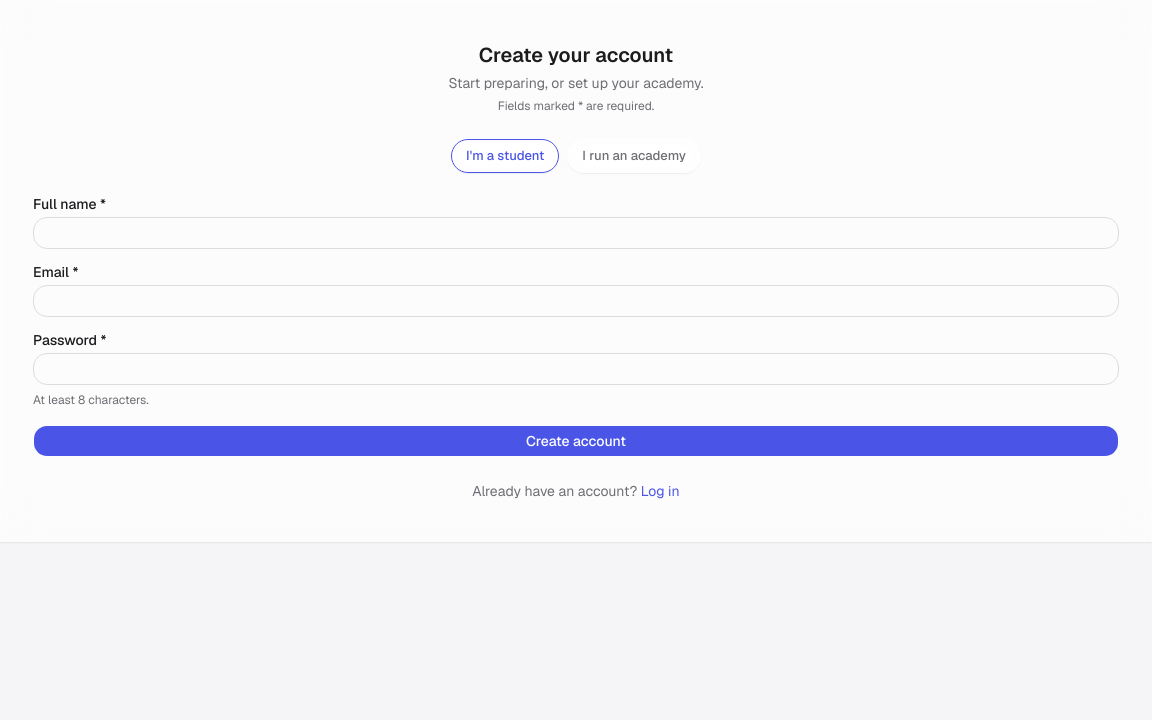
Test: SignupForm: required fields and field-specific errors › rejects an invalid email and a short password, and keeps everything typed
Type "New Cadet" into the field labelled "Full name *" at {"x": 576, "y": 232}, box [33,216,1119,248]
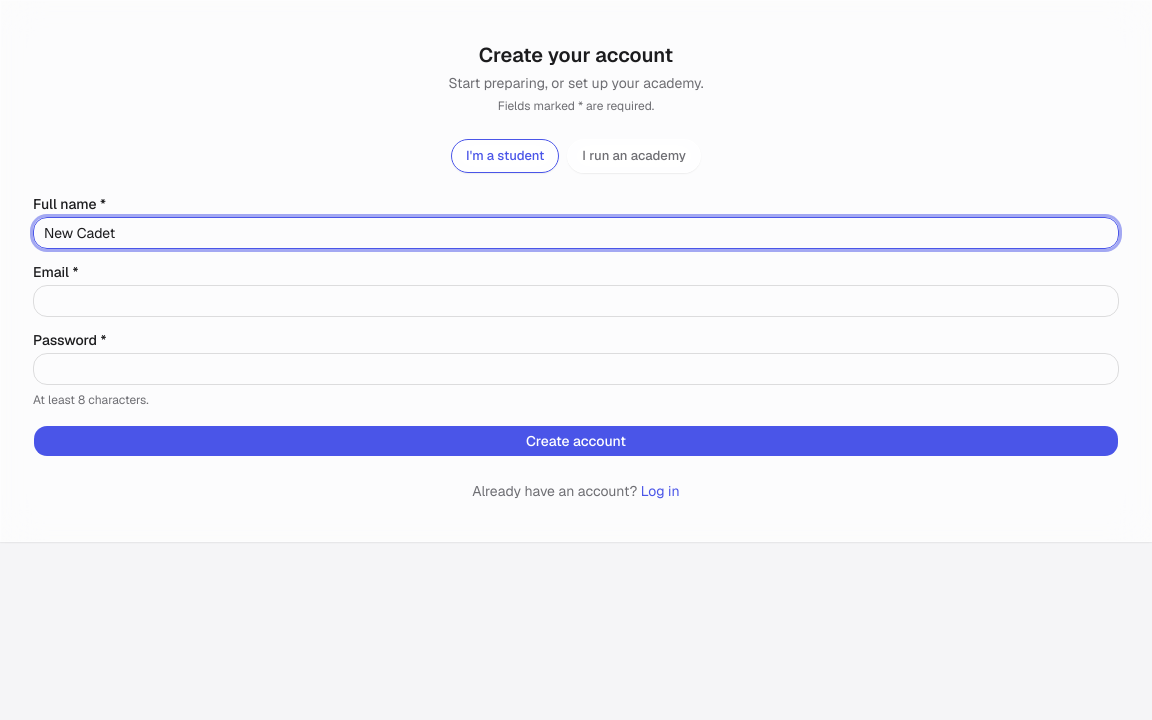
Type "not-an-email" into the field labelled "Email *" at {"x": 576, "y": 300}, box [33,284,1119,316]
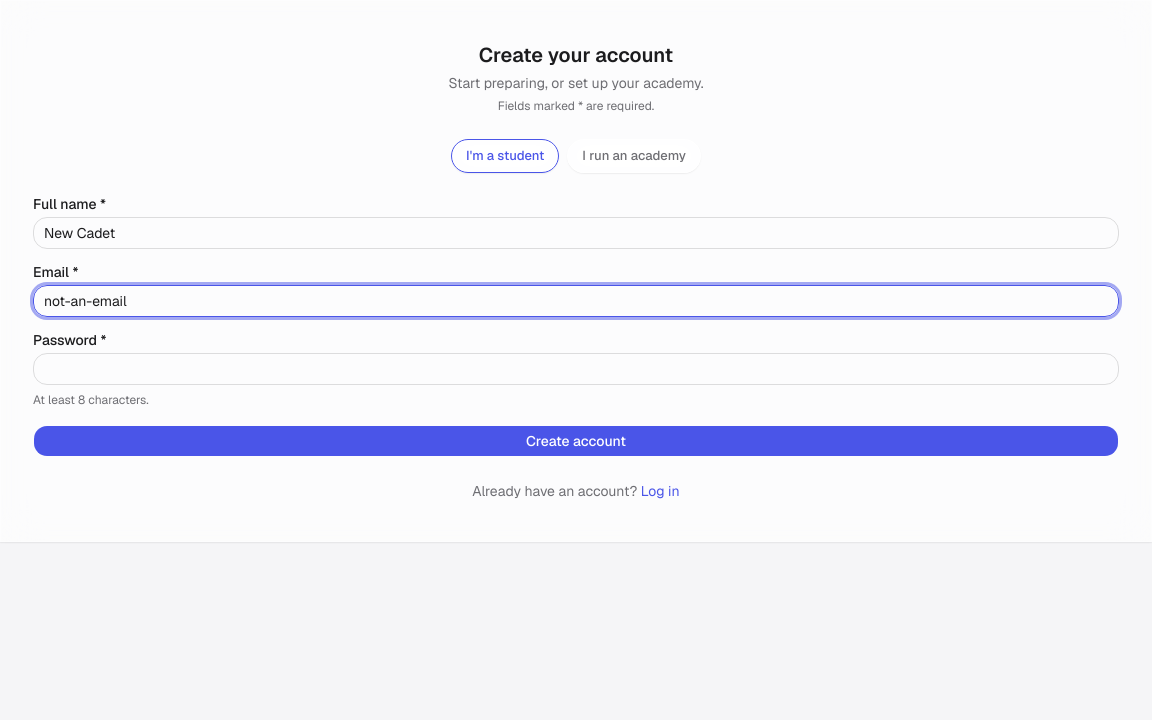
Type "short" into the password field labelled "Password *" at {"x": 576, "y": 368}, box [33,352,1119,384]
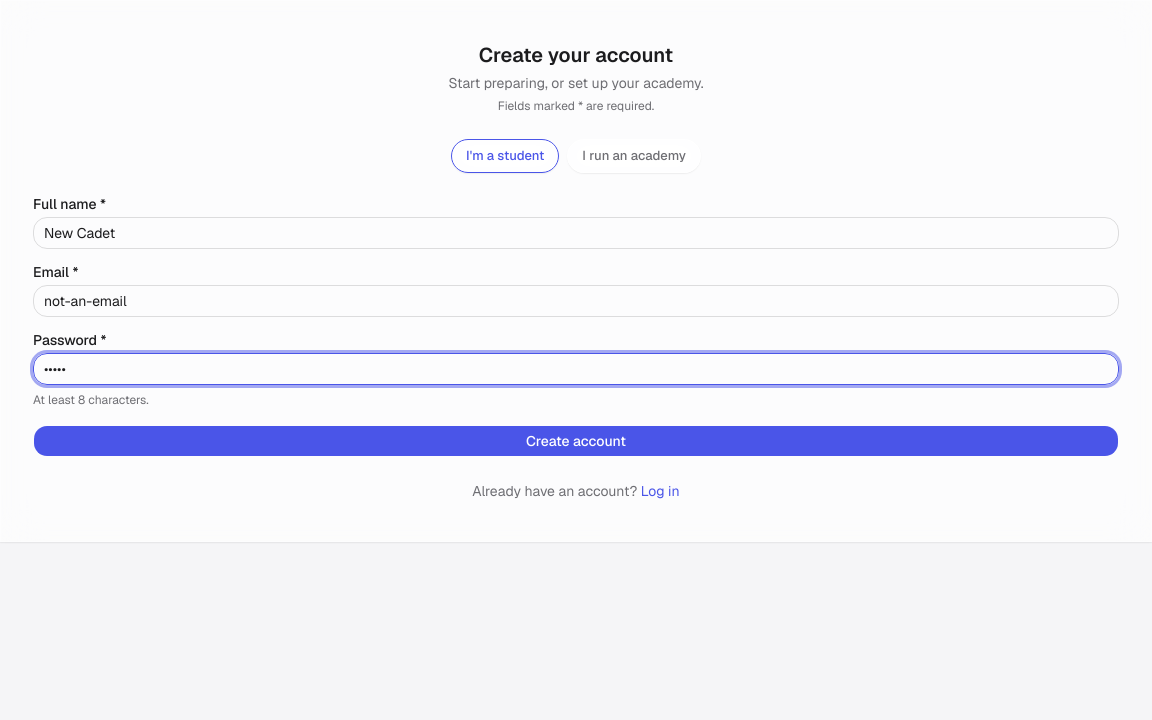
Click the button "Create account" at {"x": 576, "y": 440}, box [33,424,1119,456]
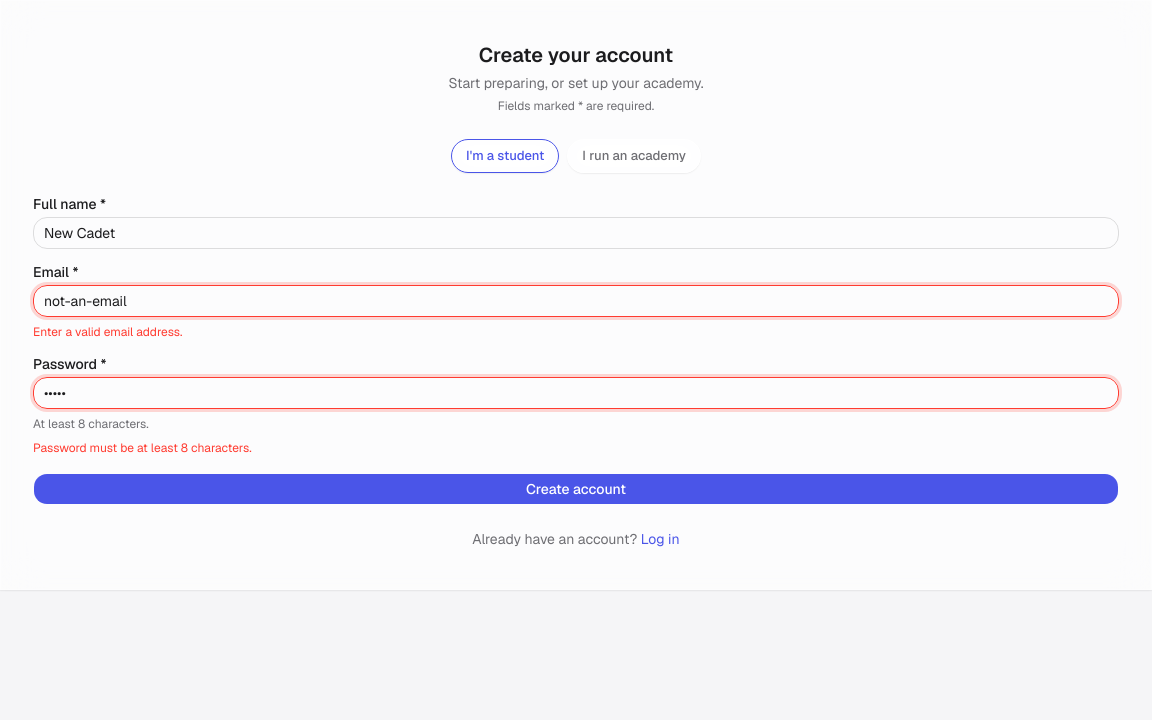
Now the text "Enter a valid email address." is shown, box [33,324,182,340]
Now the text "Password must be at least 8 characters." is shown, box [33,440,252,456]
